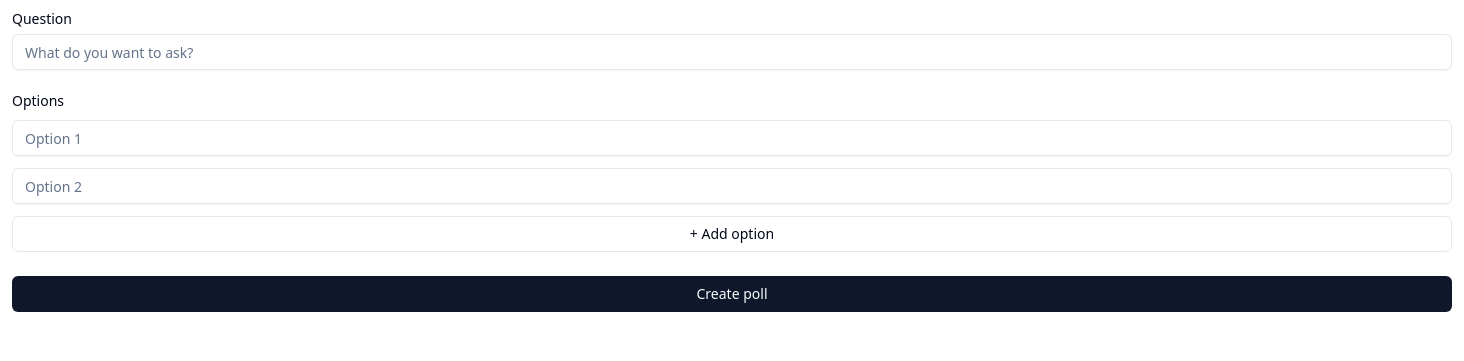
Test: PollForm › validation › shows duplicate options error
The width and height of the screenshot is (1464, 361).
Type "Q?" into the field labelled "Question".
click(732, 52); type("Q?")  # box top-left (12, 34), bottom-right (1452, 70)
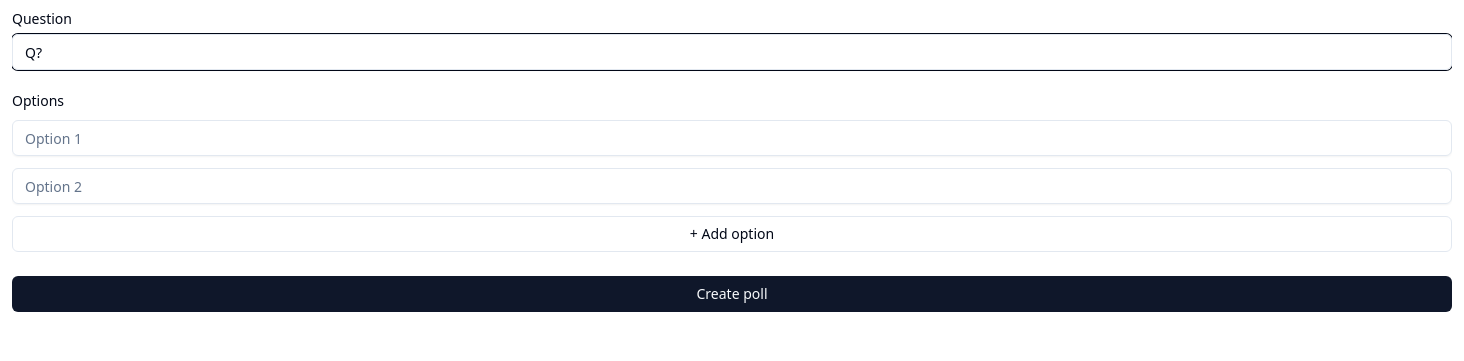
Type "Same" into the field with placeholder "Option 1".
click(732, 138); type("Same")  # box top-left (12, 120), bottom-right (1452, 156)
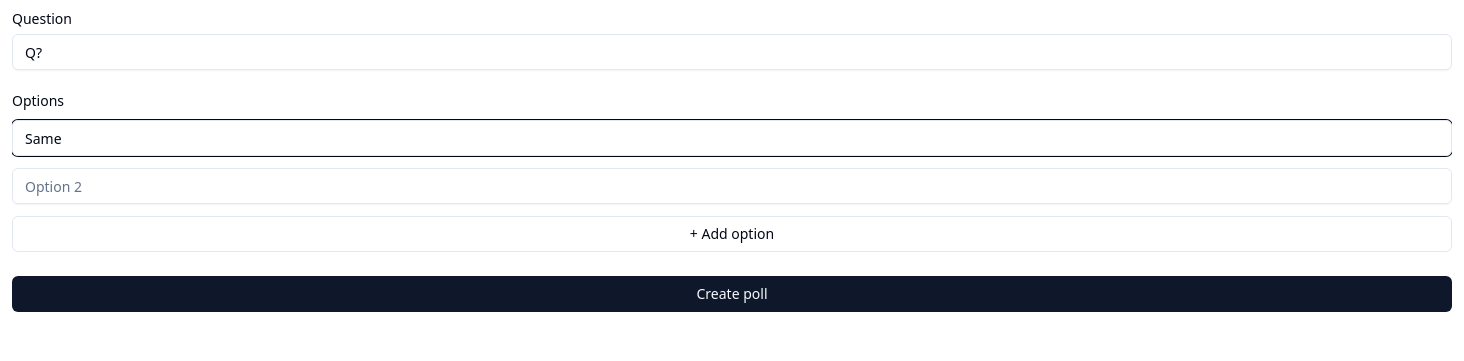
Type "same" into the field with placeholder "Option 2".
click(732, 186); type("same")  # box top-left (12, 168), bottom-right (1452, 204)
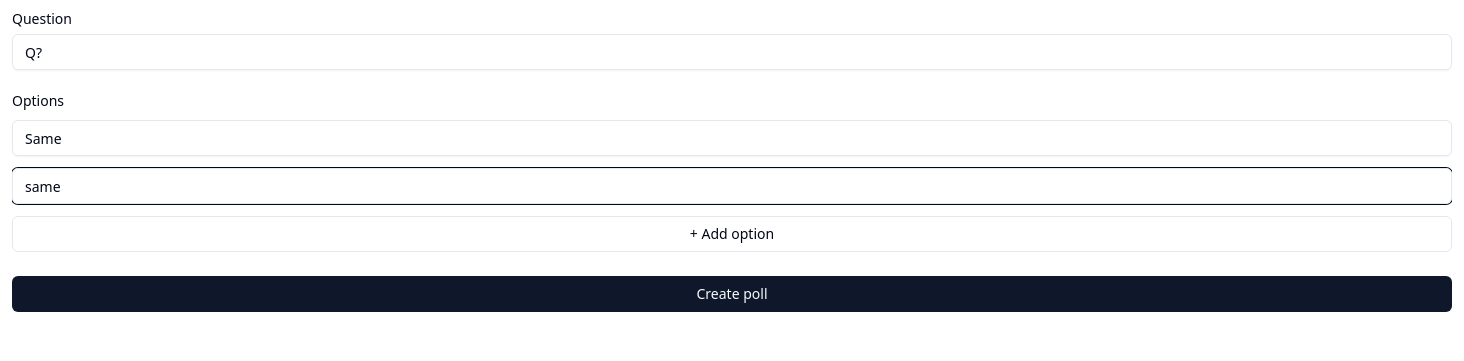
Submit the form "Question Options + Add option Create poll"
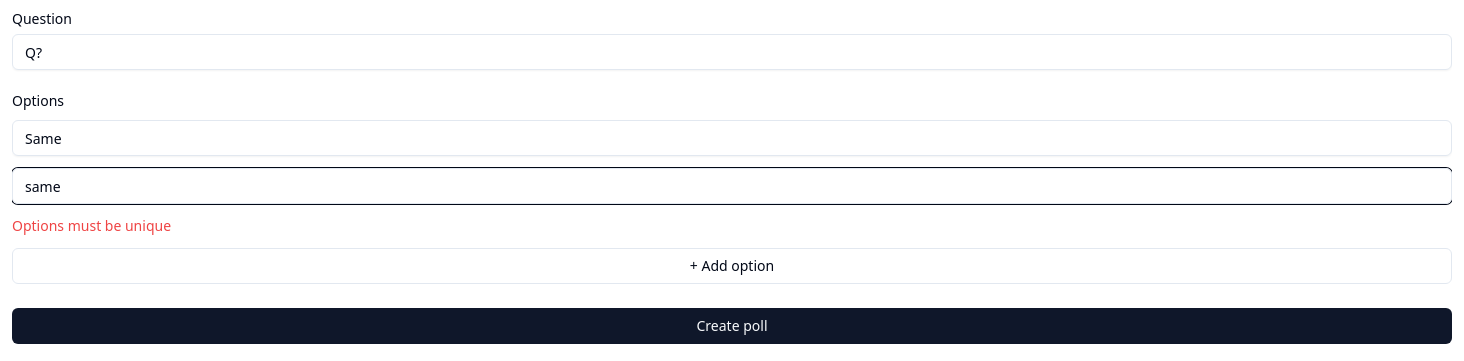
Result: the text "Options must be unique" is shown at top-left (12, 216), bottom-right (171, 235)
